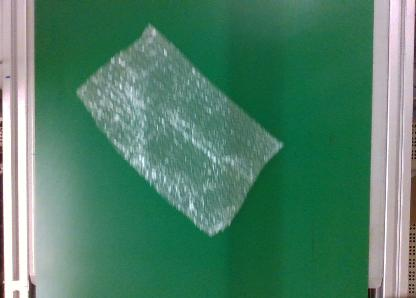Others: (76, 20, 284, 242)
